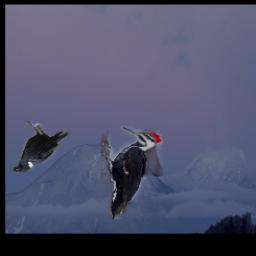Crow: (14, 119, 70, 173)
Woodpecker: (100, 126, 162, 219)
